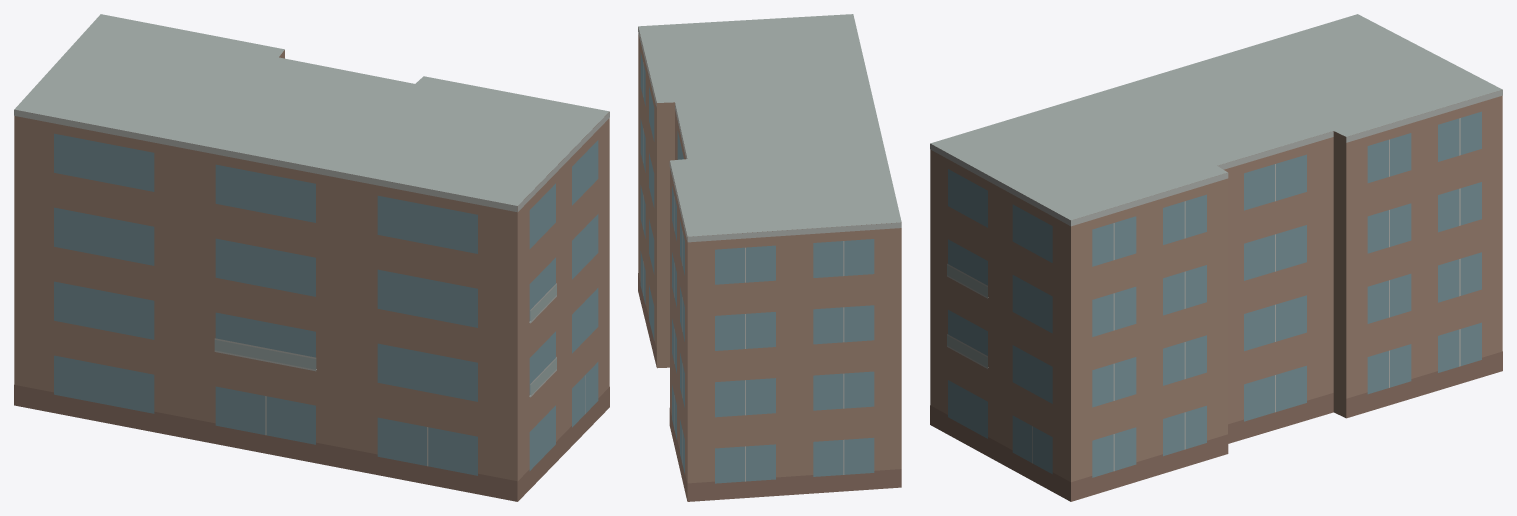
Rendered from survey-upis-32805308.glb.
3 views of the same model, side by side, from view 1: azimuth 30°, elevation 25°; view 2: azimuth 150°, elevation 25°; view 3: azimuth 270°, elevation 25° (orthographic). The views are drawn at different scales.
Parts seen in each view (by area): view 1: survey-upis-32805308.tmp; view 2: survey-upis-32805308.tmp; view 3: survey-upis-32805308.tmp.
Boxes of the visible parts, left/top/right/bottom form: survey-upis-32805308.tmp: left=14, top=14, right=609, bottom=501; survey-upis-32805308.tmp: left=638, top=14, right=901, bottom=501; survey-upis-32805308.tmp: left=930, top=14, right=1502, bottom=501.
Size of the model in its own units: 18.14 by 11.52 by 21.25.
